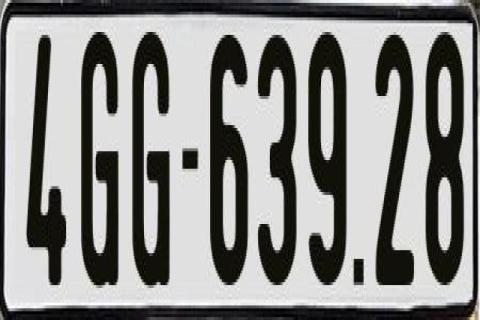0: (256, 35, 300, 303), (374, 35, 420, 291), (308, 24, 351, 288), (209, 35, 247, 303), (25, 35, 65, 285), (424, 32, 461, 300)
G: (129, 29, 167, 303), (79, 27, 116, 297)
